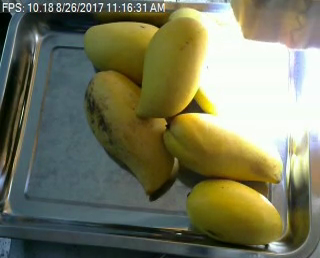Mango: (84, 71, 174, 195), (163, 113, 284, 183), (169, 7, 235, 115), (138, 17, 209, 116), (185, 179, 282, 245), (85, 22, 161, 84)
